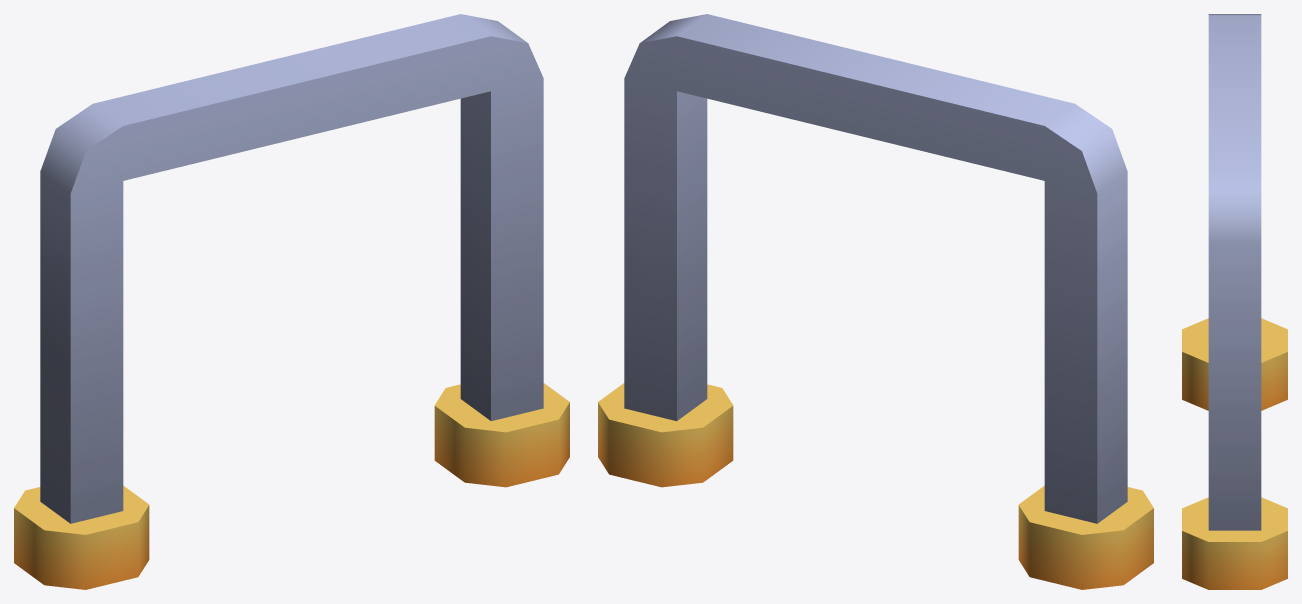
The model's file is kenney-space-station-rail-narrow.glb.
The picture shows the model from 3 angles, left to right: view 1: azimuth 30°, elevation 25°; view 2: azimuth 150°, elevation 25°; view 3: azimuth 270°, elevation 25°; orthographic projection. The views are drawn at different scales.
Parts seen in each view (by area): view 1: rail-narrow; view 2: rail-narrow; view 3: rail-narrow.
Part boxes in pixels (x1=…): rail-narrow: x1=14, y1=14, x2=569, y2=589; rail-narrow: x1=598, y1=14, x2=1153, y2=589; rail-narrow: x1=1182, y1=14, x2=1287, y2=589.
Size of the model in its own units: 0.5 by 0.4 by 0.1.
1 material, 1 textured.
